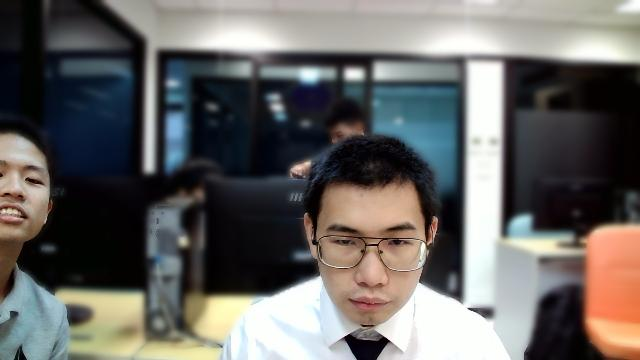fokus: (316, 170, 435, 328)
